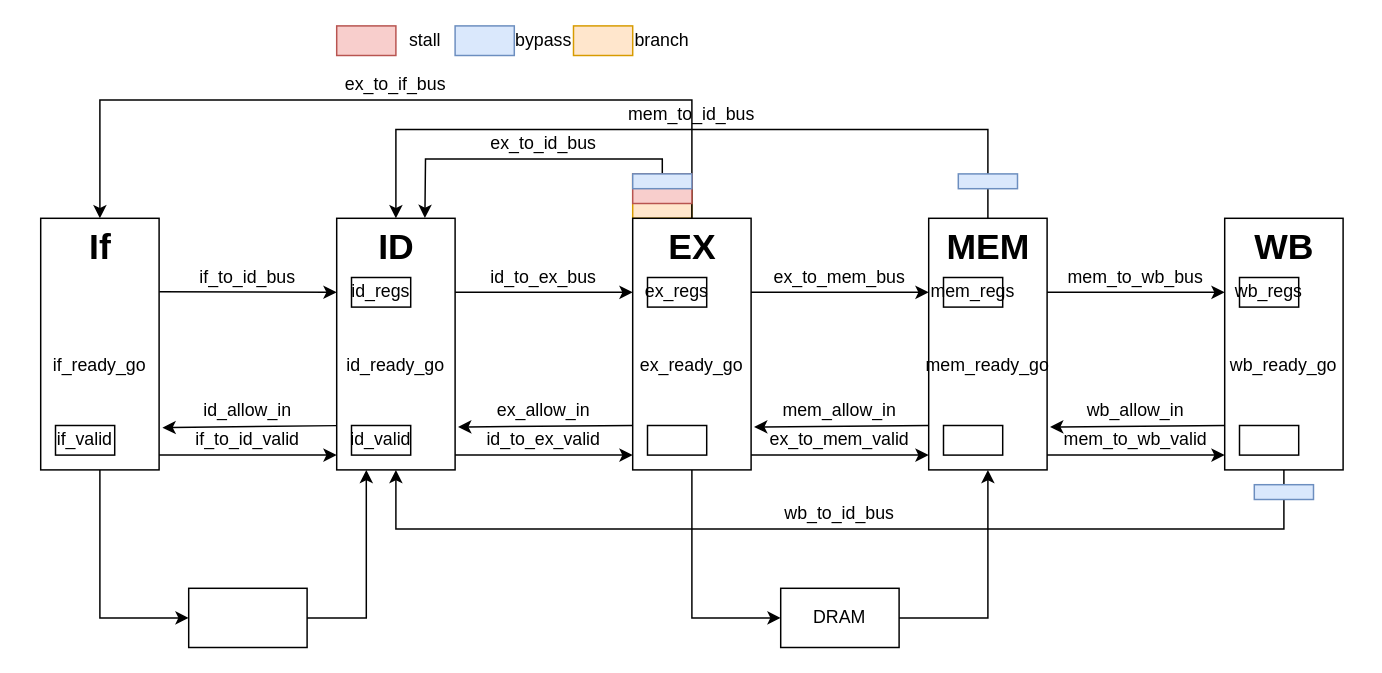
Some shapes in this 1382 by 673 pixel diagram are drawn without their labels. The shapes that lost their labels are listed below. From the top down, each one's centre as x and y in pixels, then its label:
At point 676,439: "ex_valid".
At point 972,439: "mem_valid".
At point 1268,439: "wb_valid".
At point 247,617: "IROM".
